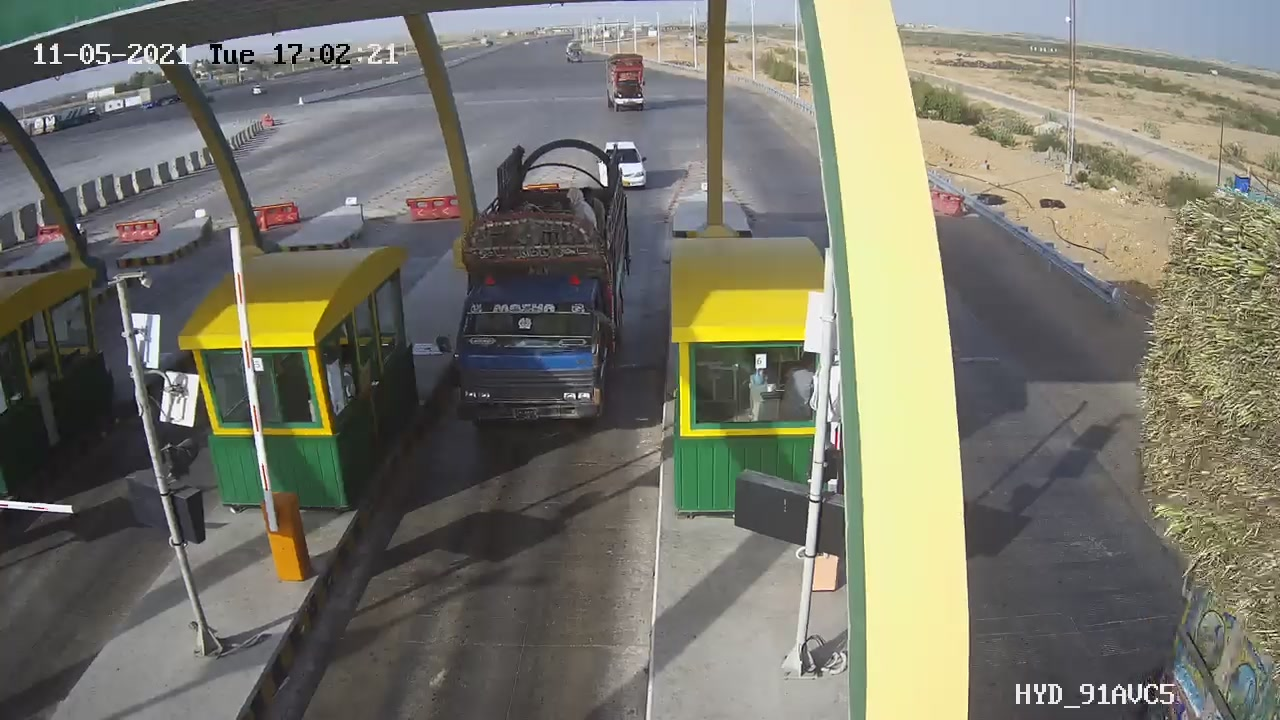F5: (425, 125, 670, 453)
